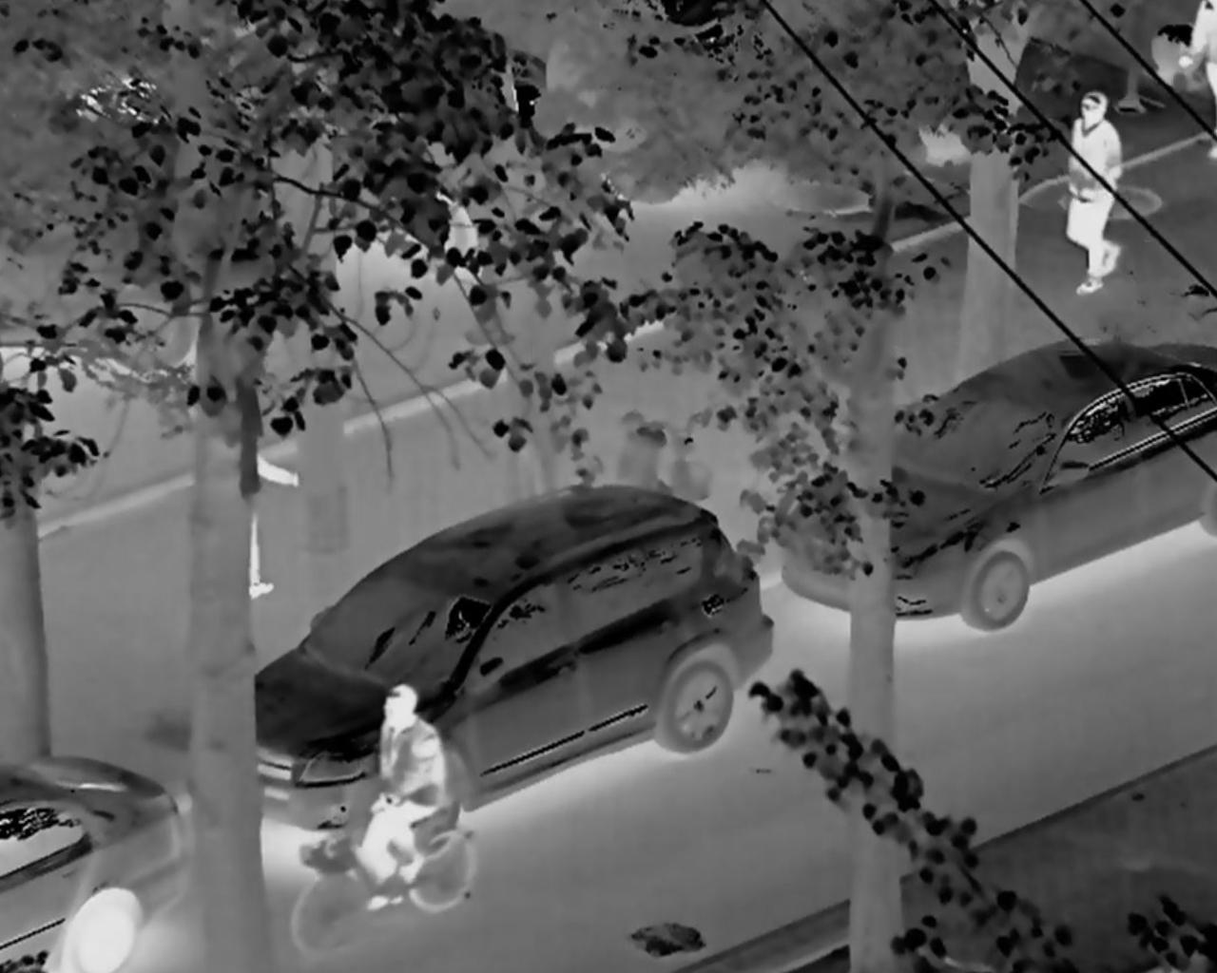person: (305, 671, 509, 946), (1038, 79, 1157, 322)
